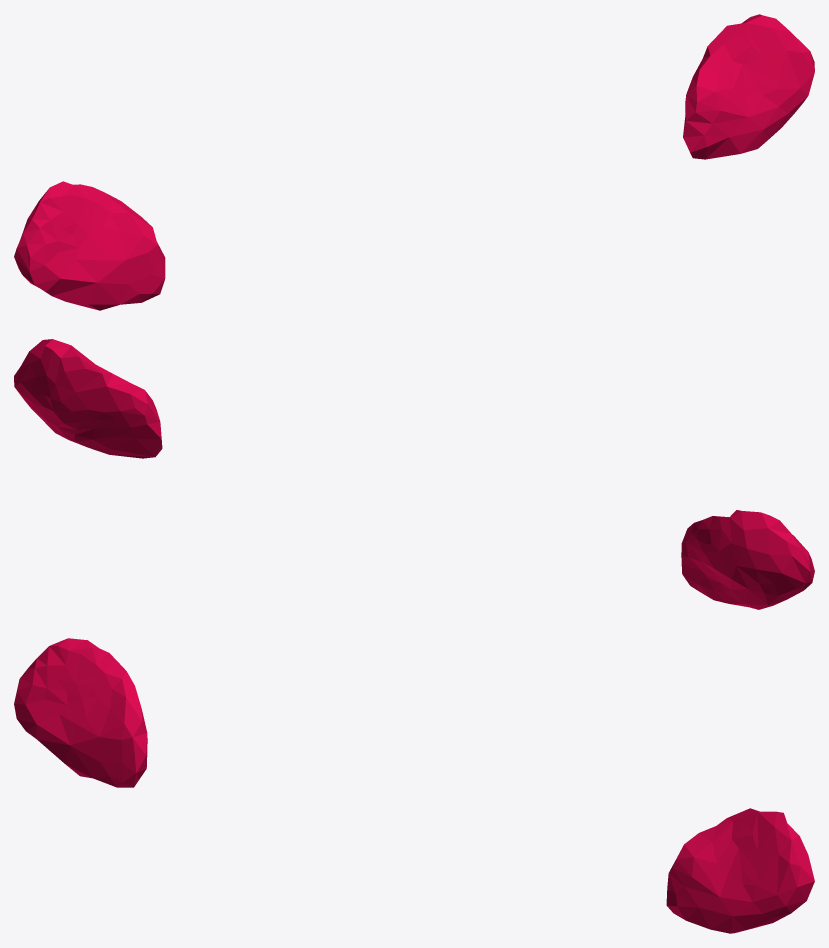
File: 220-TTPAl-temporopolar periallocortex-('1.0000', '0.0000', '0.3412').obj
3 renders of one model, top to bottom at view 1: azimuth 30°, elevation 25°; view 2: azimuth 150°, elevation 25°; view 3: azimuth 330°, elevation 25°, orthographic.
Bounding box in the file's own units: 211 × 29.75 × 14.98.
